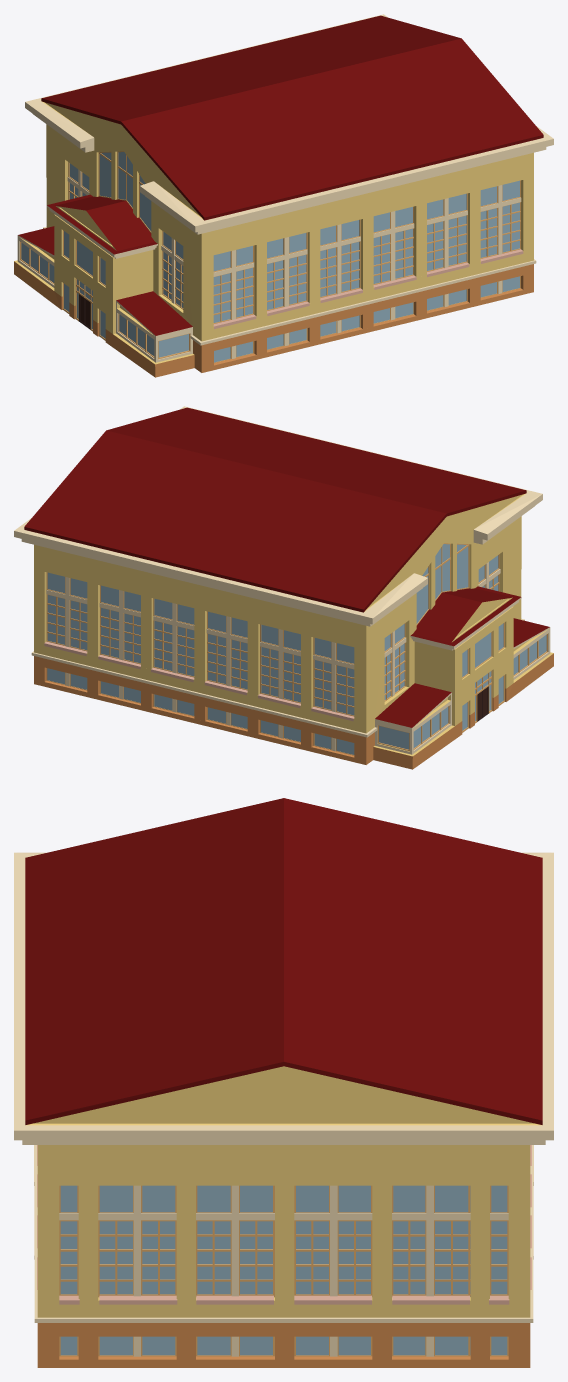
File: Library.fbx
The picture shows the model from 3 angles, top to bottom: view 1: azimuth 30°, elevation 25°; view 2: azimuth 150°, elevation 25°; view 3: azimuth 270°, elevation 25°; orthographic projection. The views are drawn at different scales.
Parts seen in each view (by area): view 1: Building14_a_LP_LOD0; view 2: Building14_a_LP_LOD0; view 3: Building14_a_LP_LOD0.
Boxes of the visible parts, x1,y1,x2,y2 form: Building14_a_LP_LOD0: (14,14,553,377); Building14_a_LP_LOD0: (14,406,553,769); Building14_a_LP_LOD0: (14,798,553,1367).
Size of the model in its own units: 3725 by 1792 by 2825.
